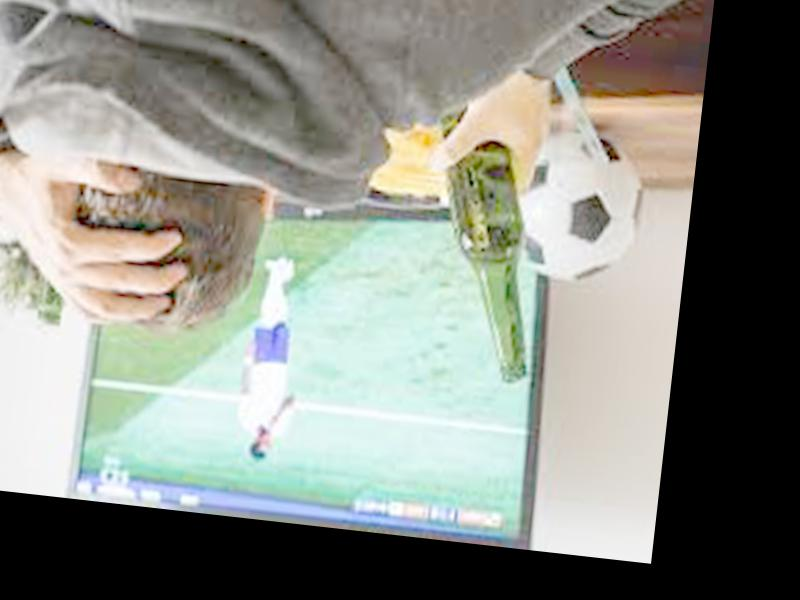Beer: (421, 98, 556, 384)
